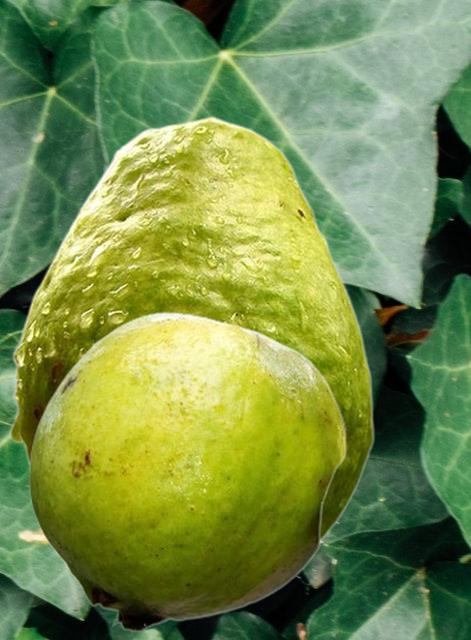guava: (9, 116, 374, 541), (28, 311, 346, 632)
